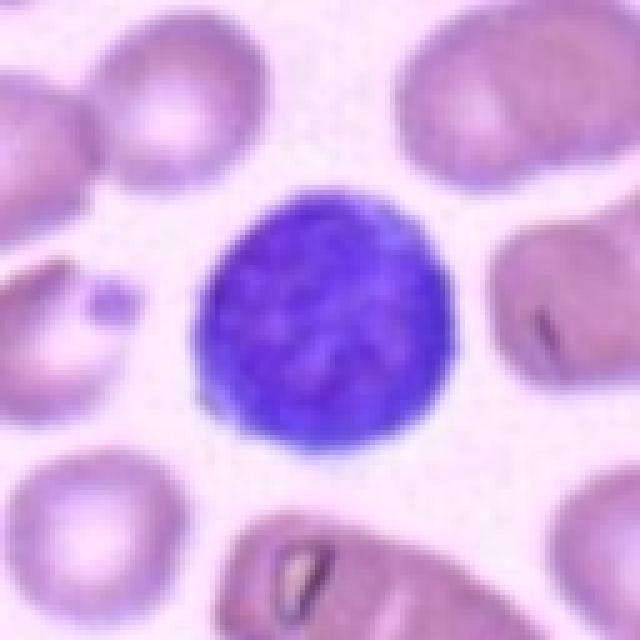lympho: (183, 175, 467, 459)
